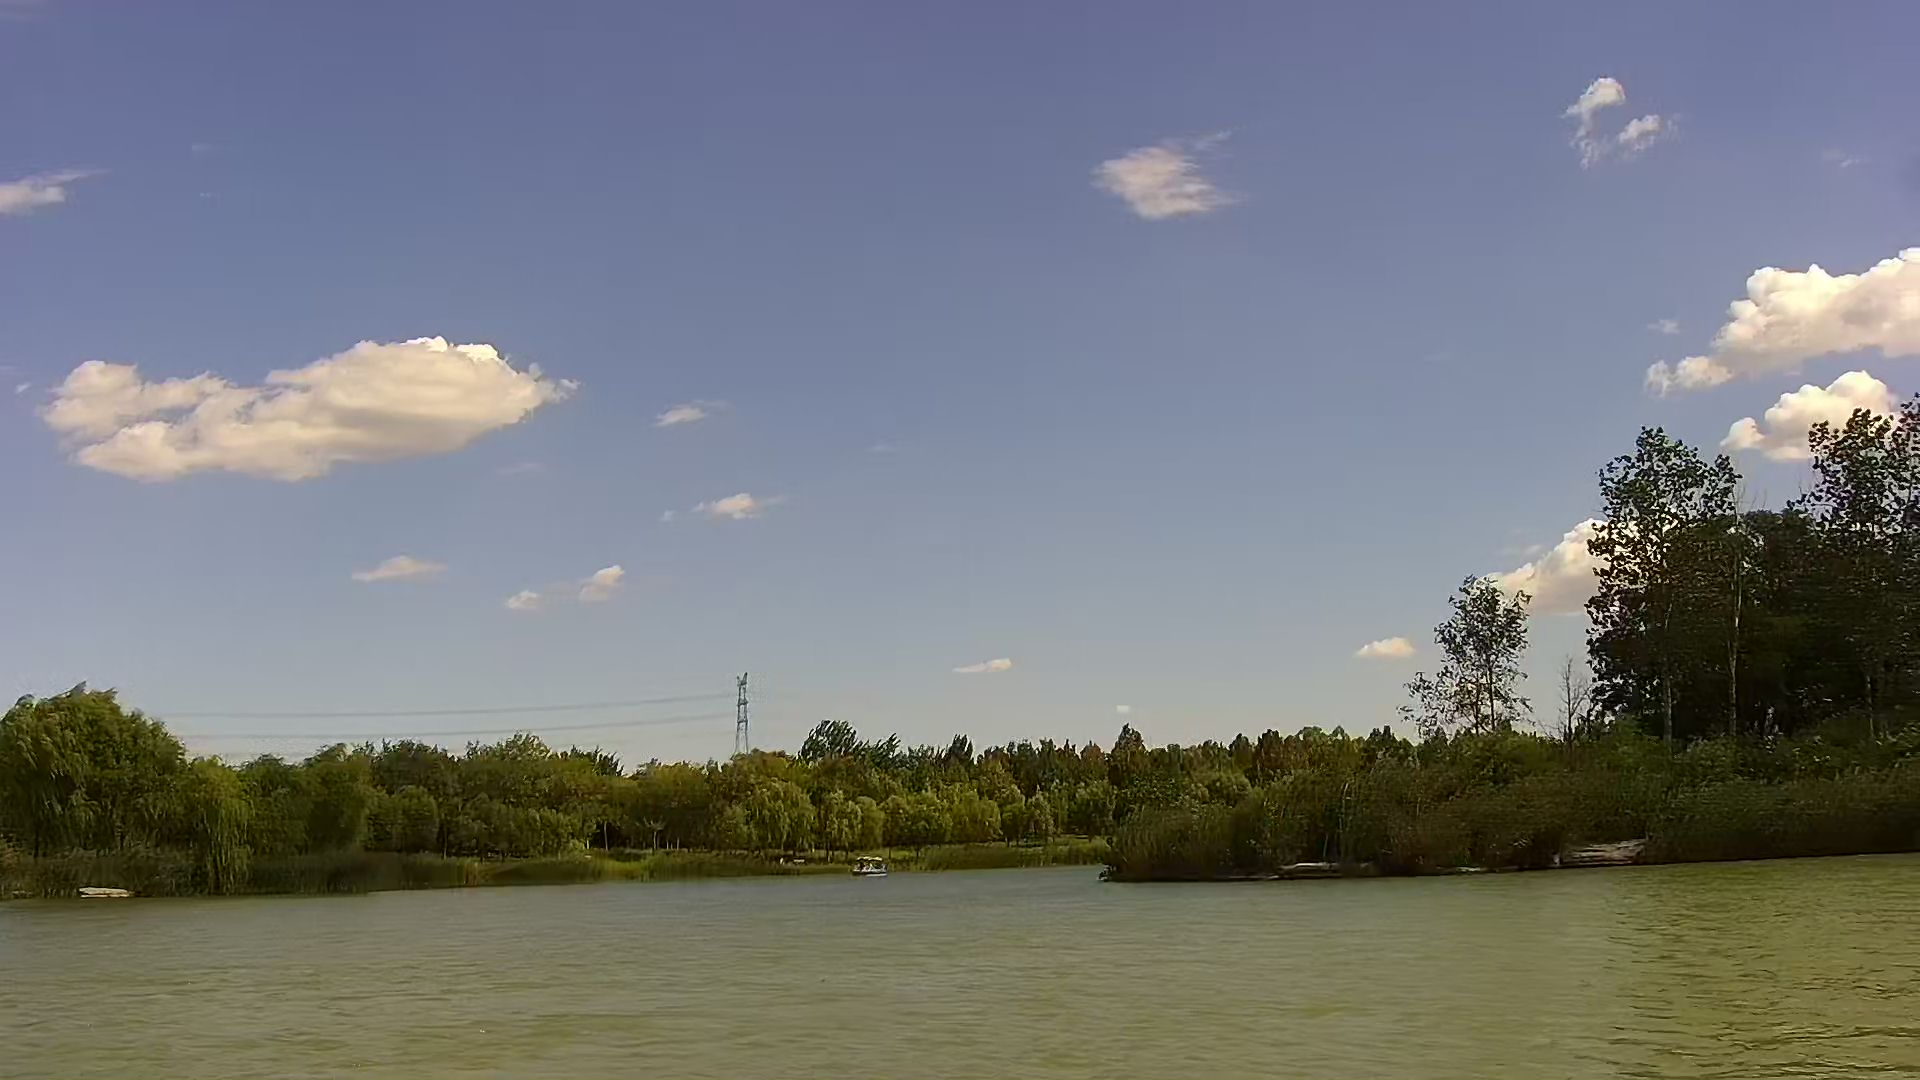boat: (852, 851, 885, 874)
rock: (1280, 856, 1370, 884), (1553, 837, 1644, 861), (78, 887, 131, 897)
